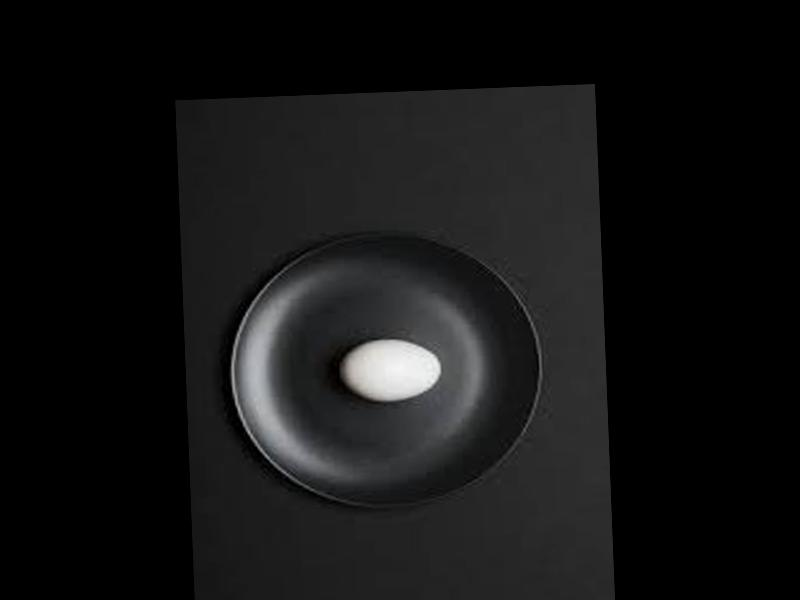Eggs: (340, 337, 441, 404)
